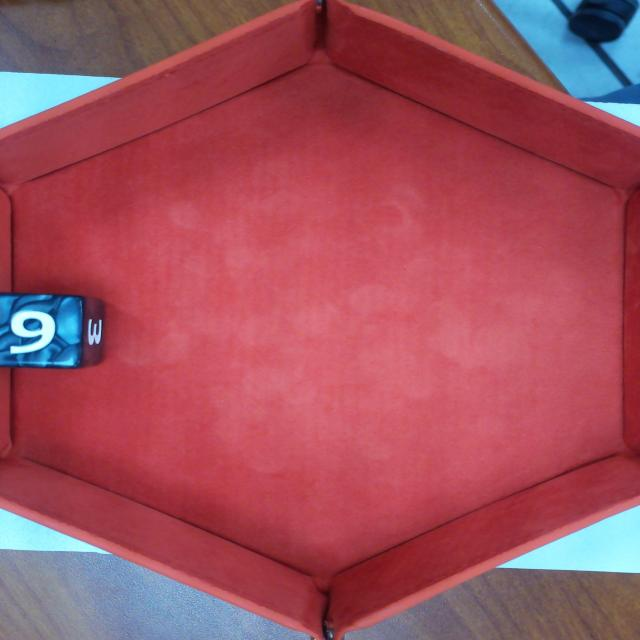dice: (0, 295, 79, 370)
